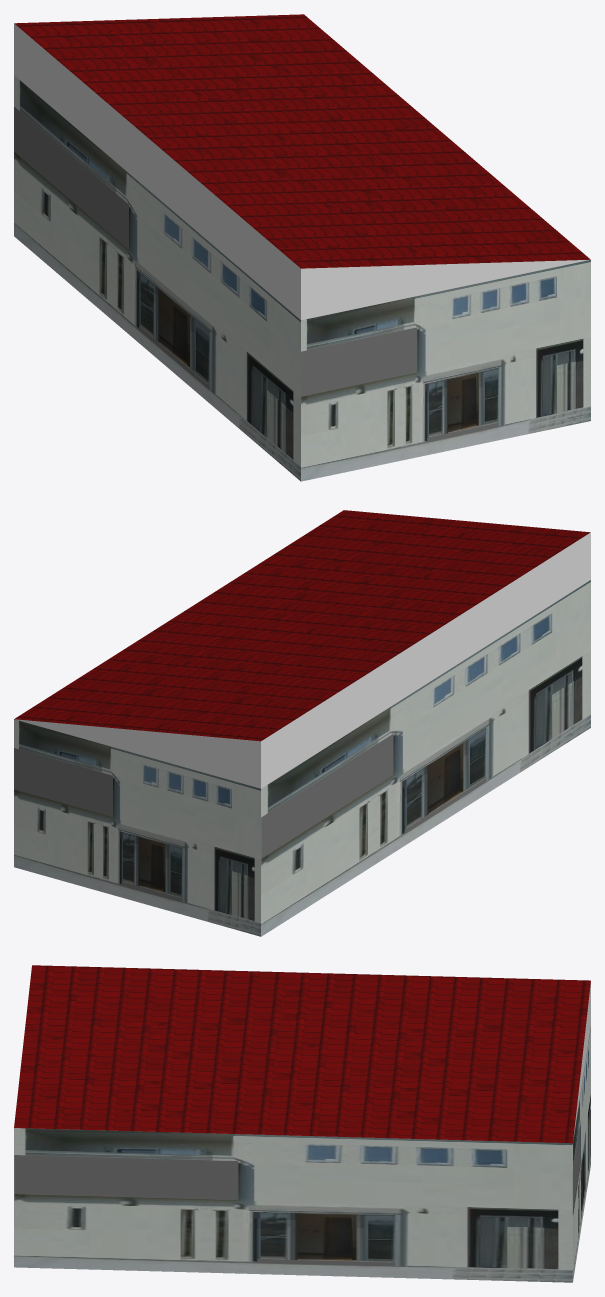
3 renders of one model, top to bottom at view 1: azimuth 30°, elevation 25°; view 2: azimuth 150°, elevation 25°; view 3: azimuth 270°, elevation 25°, orthographic. The views are drawn at different scales.
Parts seen in each view (by area): view 1: CityEngineMaterial_11_m, CityEngineMaterial_17_m, CityEngineMaterial_3_m; view 2: CityEngineMaterial_11_m, CityEngineMaterial_17_m, CityEngineMaterial_3_m; view 3: CityEngineMaterial_17_m, CityEngineMaterial_11_m, CityEngineMaterial_3_m.
Boxes of the visible parts, <box> form: CityEngineMaterial_11_m: <box>14,75,590,481</box>; CityEngineMaterial_17_m: <box>14,14,590,268</box>; CityEngineMaterial_3_m: <box>14,23,590,320</box>; CityEngineMaterial_11_m: <box>14,580,590,936</box>; CityEngineMaterial_17_m: <box>14,510,590,741</box>; CityEngineMaterial_3_m: <box>15,532,590,788</box>; CityEngineMaterial_17_m: <box>14,965,590,1143</box>; CityEngineMaterial_11_m: <box>14,1026,590,1282</box>; CityEngineMaterial_3_m: <box>573,982,590,1139</box>.
Bounding box in the file's own units: 12.31 × 7.93 × 22.53.
